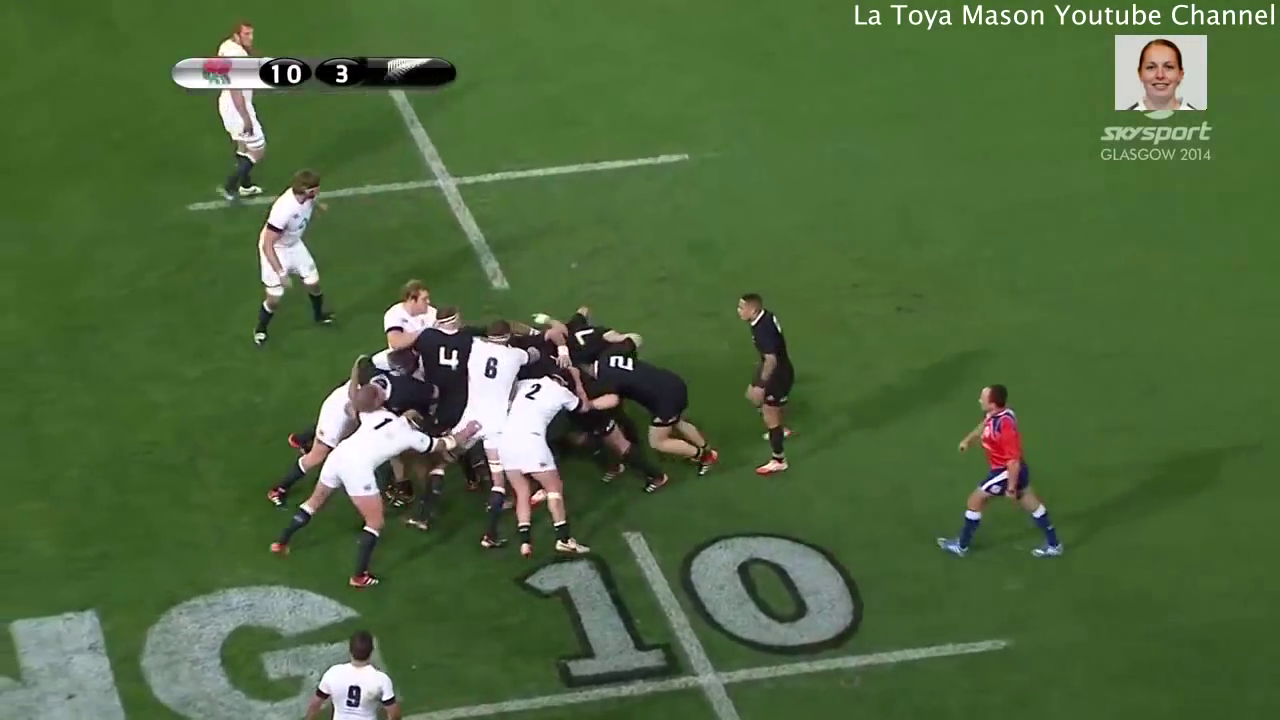10_metre: (161, 56, 711, 294), (381, 520, 1014, 720)
maul: (267, 285, 726, 590)
player: (259, 400, 423, 592), (932, 375, 1067, 568), (495, 366, 585, 567), (581, 353, 723, 480), (455, 316, 527, 556), (245, 166, 338, 351), (729, 287, 811, 489), (408, 305, 477, 462), (206, 21, 265, 202), (308, 630, 405, 720), (563, 305, 654, 359), (378, 271, 435, 340)
